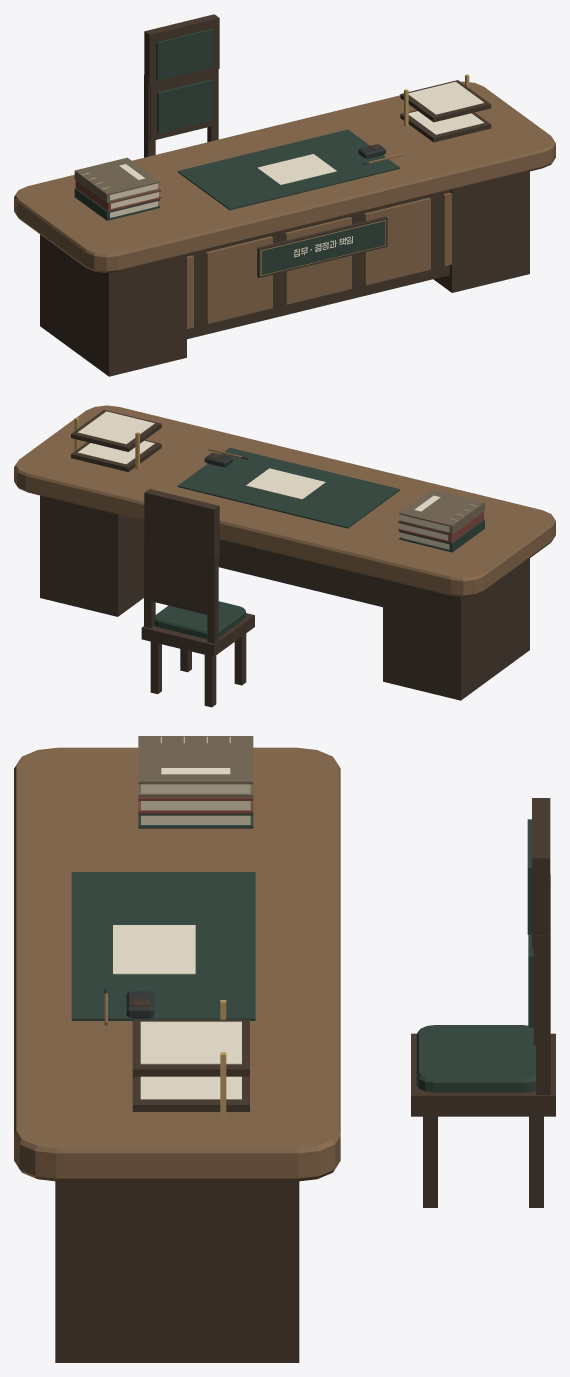
The model's file is 09_Executive_Desk.fbx.
The picture shows the model from 3 angles, top to bottom: view 1: azimuth 30°, elevation 25°; view 2: azimuth 150°, elevation 25°; view 3: azimuth 270°, elevation 25°; orthographic projection. The views are drawn at different scales.
Visible parts, largest first — view 1: 09_Executive_Desk__Structure, 09_Executive_Desk__Executive_Chair; view 2: 09_Executive_Desk__Structure, 09_Executive_Desk__Executive_Chair; view 3: 09_Executive_Desk__Structure, 09_Executive_Desk__Executive_Chair.
Boxes of the visible parts, x1,y1,x2,y2 form: 09_Executive_Desk__Structure: [14, 74, 555, 376]; 09_Executive_Desk__Executive_Chair: [144, 14, 219, 157]; 09_Executive_Desk__Structure: [14, 405, 555, 700]; 09_Executive_Desk__Executive_Chair: [141, 489, 254, 707]; 09_Executive_Desk__Structure: [14, 736, 340, 1362]; 09_Executive_Desk__Executive_Chair: [411, 798, 555, 1207].
Size of the model in its own units: 414 by 170 by 235.
Materials: 2 (2 with a texture image).
